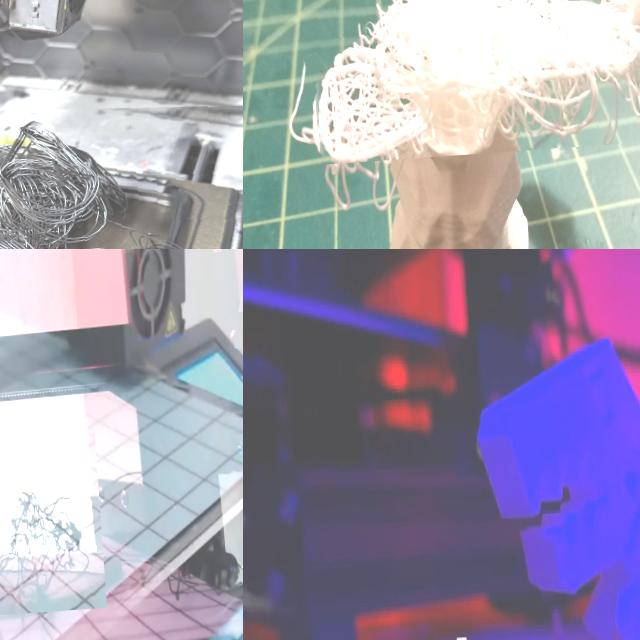spaghetti: (317, 0, 640, 163), (0, 84, 243, 249), (0, 414, 106, 632)
